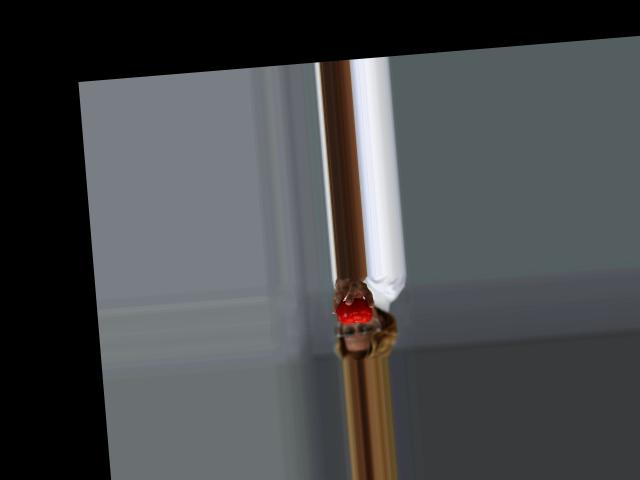tomato: (336, 296, 374, 324)
